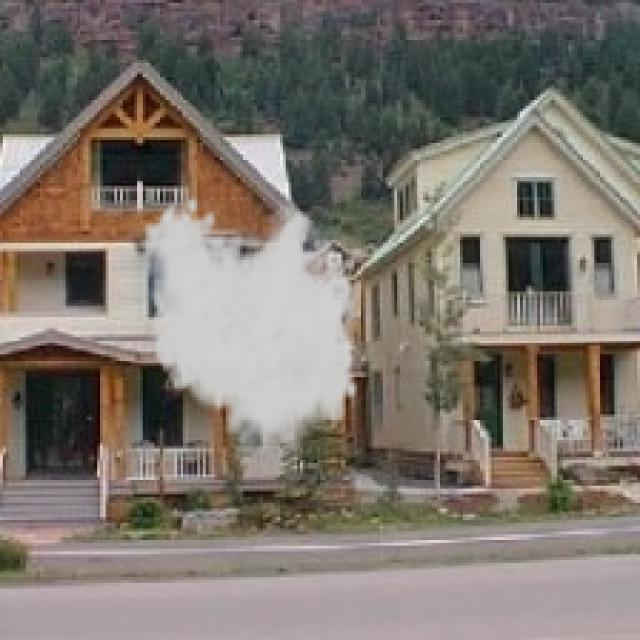Smoke: (140, 194, 372, 463)
